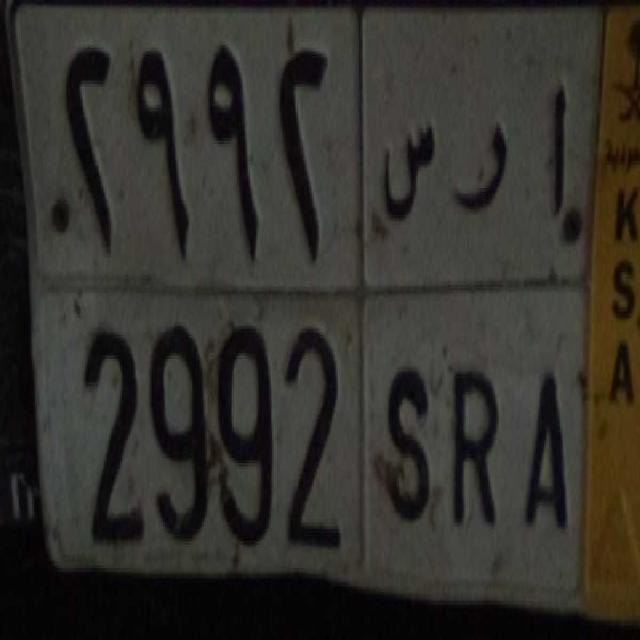license_plate: (29, 268, 588, 614)
